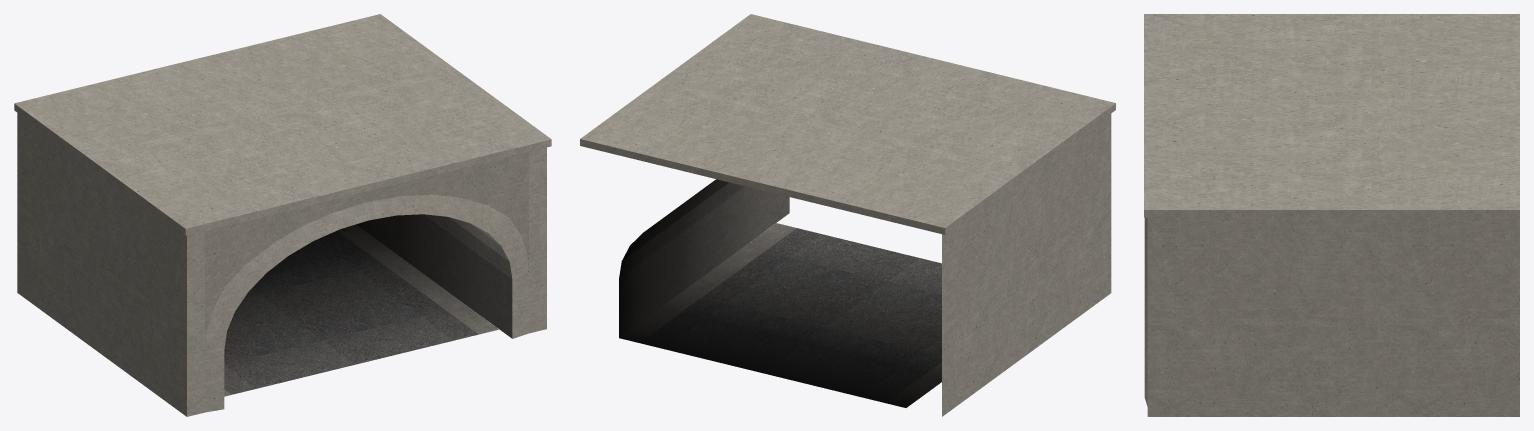
The model's file is road-tunnel-bridge.glb.
The picture shows the model from 3 angles, left to right: view 1: azimuth 30°, elevation 25°; view 2: azimuth 150°, elevation 25°; view 3: azimuth 270°, elevation 25°; orthographic projection. The views are drawn at different scales.
Parts seen in each view (by area): view 1: road-tunnel-bridge; view 2: road-tunnel-bridge; view 3: road-tunnel-bridge.
Boxes of the visible parts, bbox=[...] form: road-tunnel-bridge: bbox=[14, 14, 551, 416]; road-tunnel-bridge: bbox=[580, 14, 1115, 416]; road-tunnel-bridge: bbox=[1144, 14, 1519, 416].
Size of the model in its own units: 44.5 by 22.1 by 36.05.
3 materials, 3 textured.
